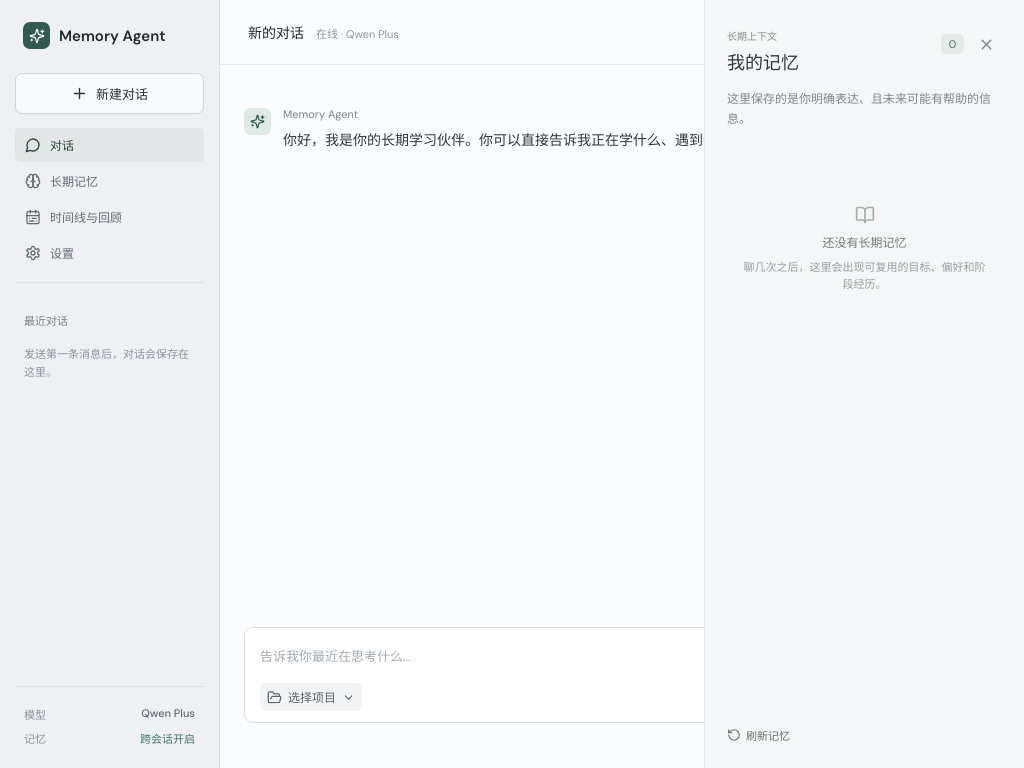
it: explains disabled project file access instead of implying the folder is readable ({"local":{"enabled":false}})
The image size is (1024, 768).
Step 1. Click the button "选择项目" → (311, 697), box [260,683,362,711]
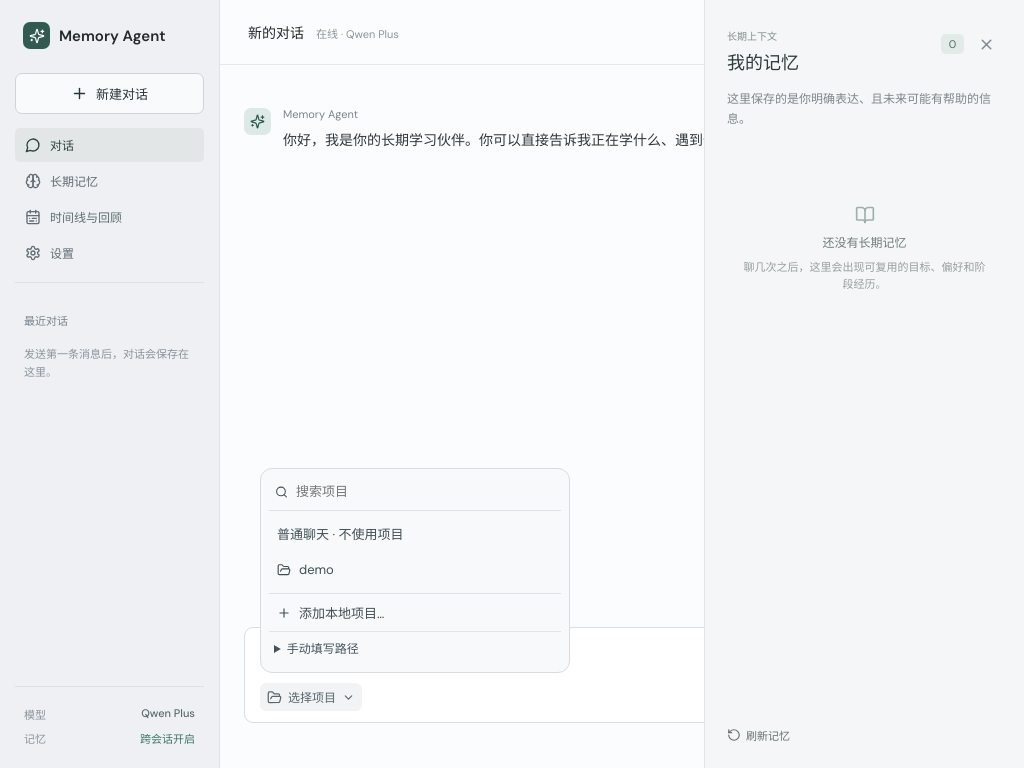
Result: the button "demo" is shown
Step 2. Click the button "demo" → (316, 570), box [269,552,561,587]
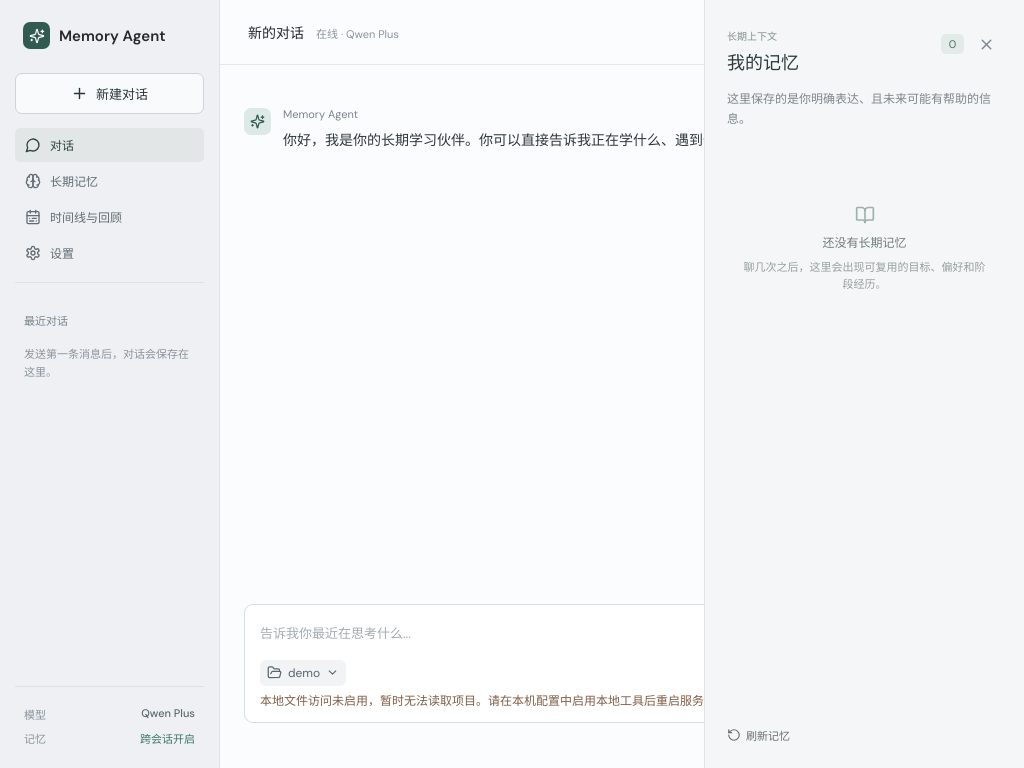
Result: the message "本地文件访问未启用，暂时无法读取项目。请在本机配置中启用本地工具后重启服务。" is shown at [260,692,716,711]
Result: the button "demo" is shown at [260,660,346,686]
